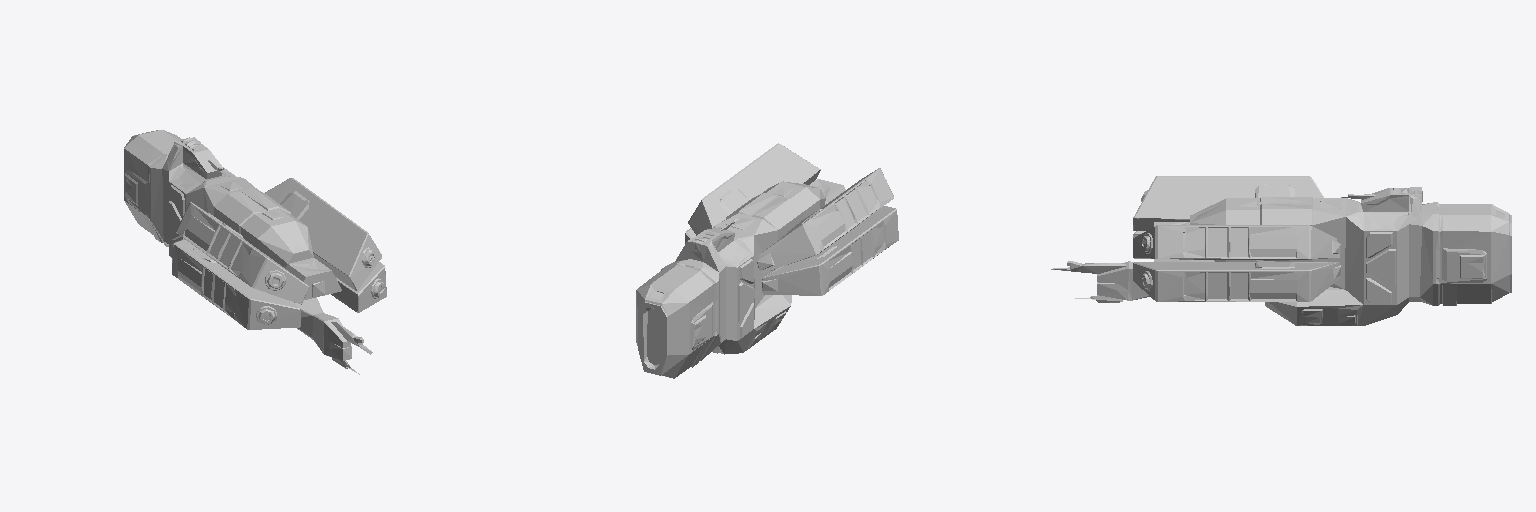
3 renders of one model, left to right at view 1: azimuth 30°, elevation 25°; view 2: azimuth 150°, elevation 25°; view 3: azimuth 270°, elevation 25°, orthographic.
Visible parts, largest first — view 1: Kus_MissileDestroyer; view 2: Kus_MissileDestroyer, Kus_MissileDestroyerEngine; view 3: Kus_MissileDestroyer.
Boxes of the visible parts, x1=… form: Kus_MissileDestroyer: x1=124, y1=130, x2=386, y2=374; Kus_MissileDestroyer: x1=636, y1=143, x2=898, y2=378; Kus_MissileDestroyerEngine: x1=638, y1=302, x2=666, y2=375; Kus_MissileDestroyer: x1=1051, y1=176, x2=1511, y2=325.
Bounding box in the file's own units: 109 × 97.53 × 312.